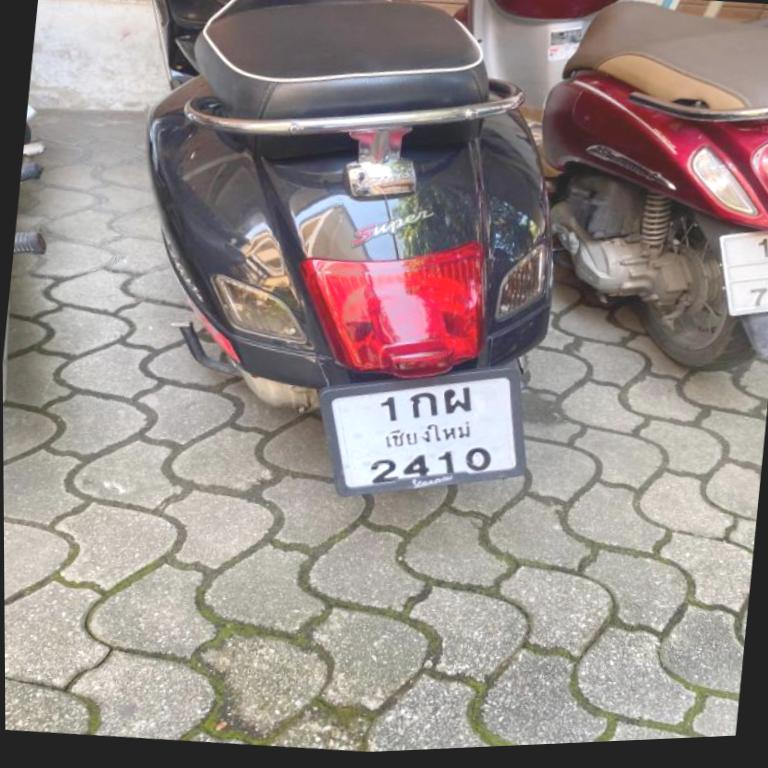license plate: (305, 341, 541, 522), (709, 224, 768, 324)
